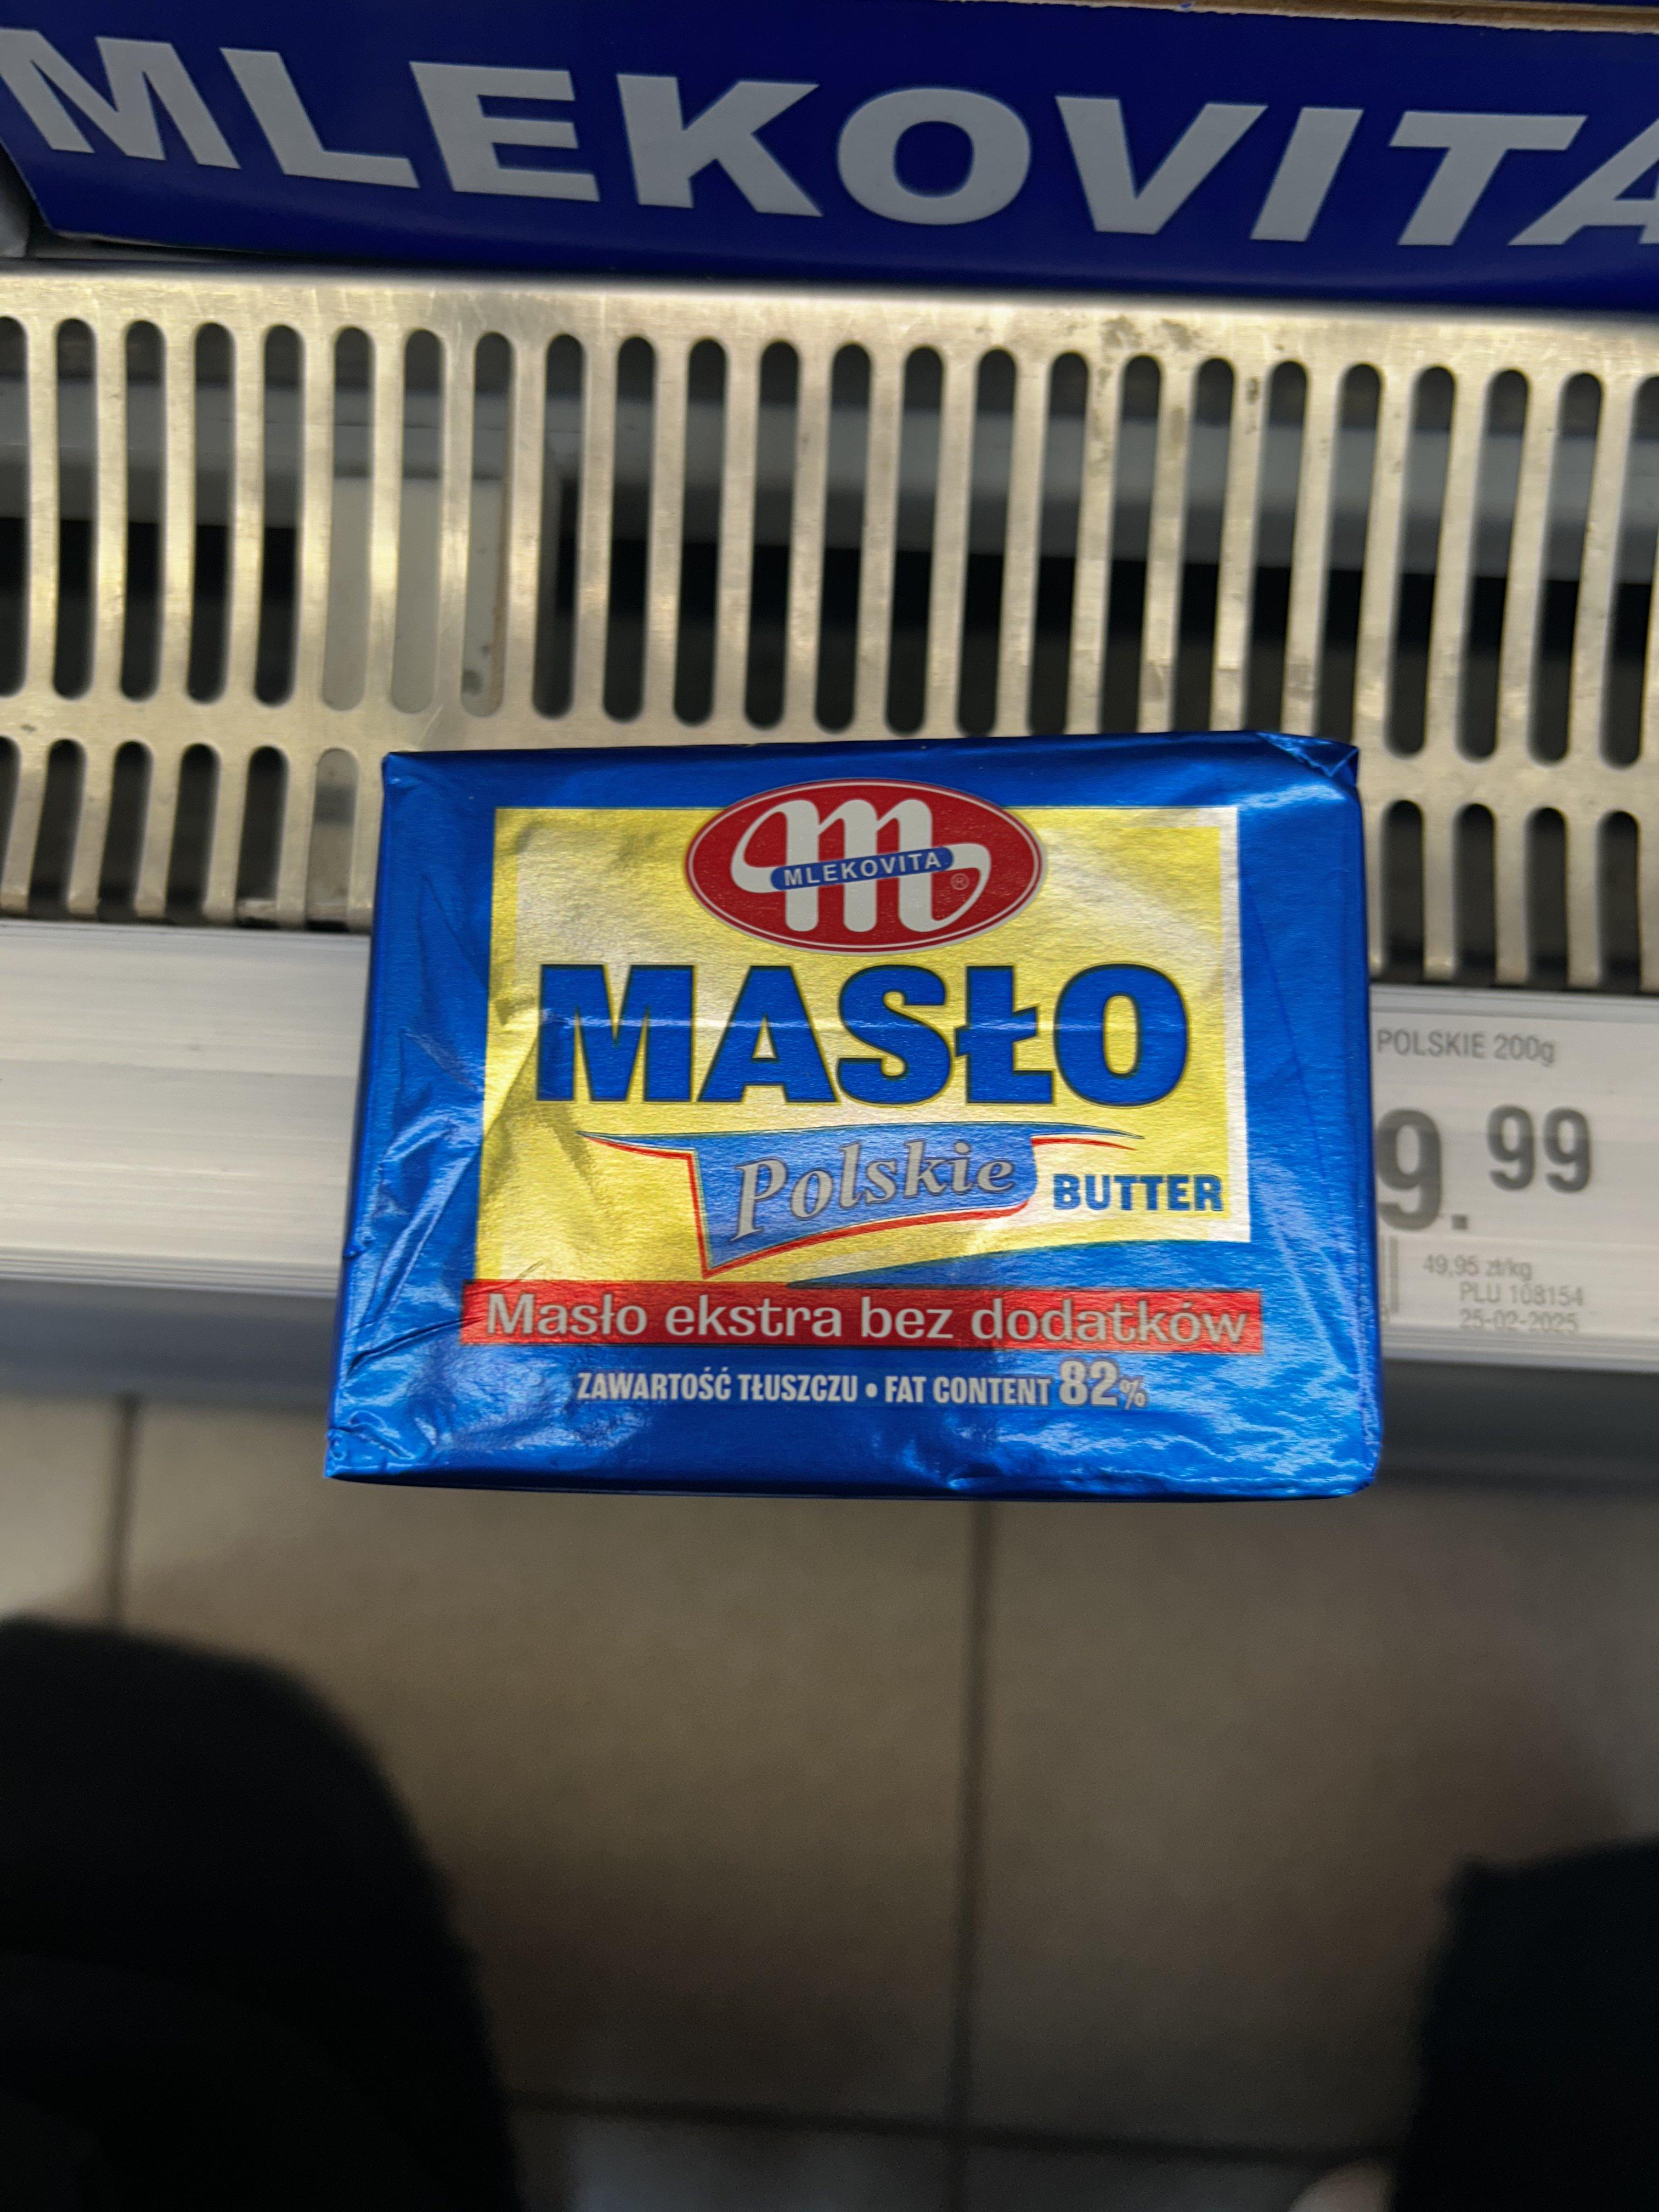Butter: (324, 751, 1380, 1510)
